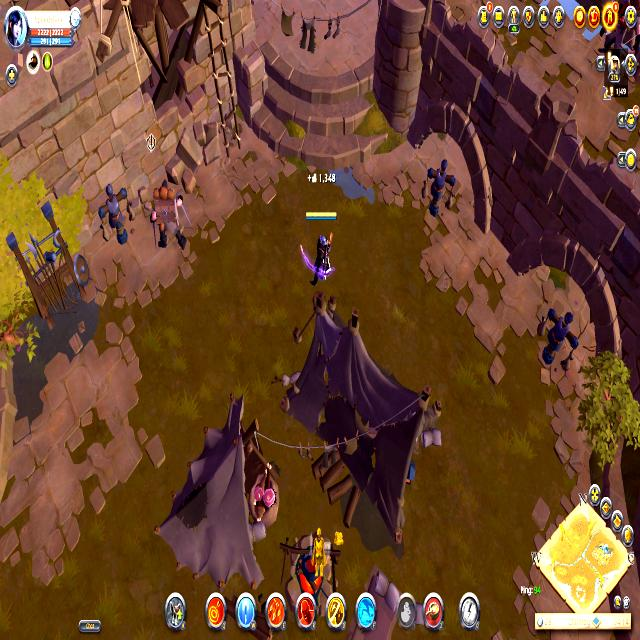ore: (138, 126, 195, 258)
red: (299, 207, 340, 288)
